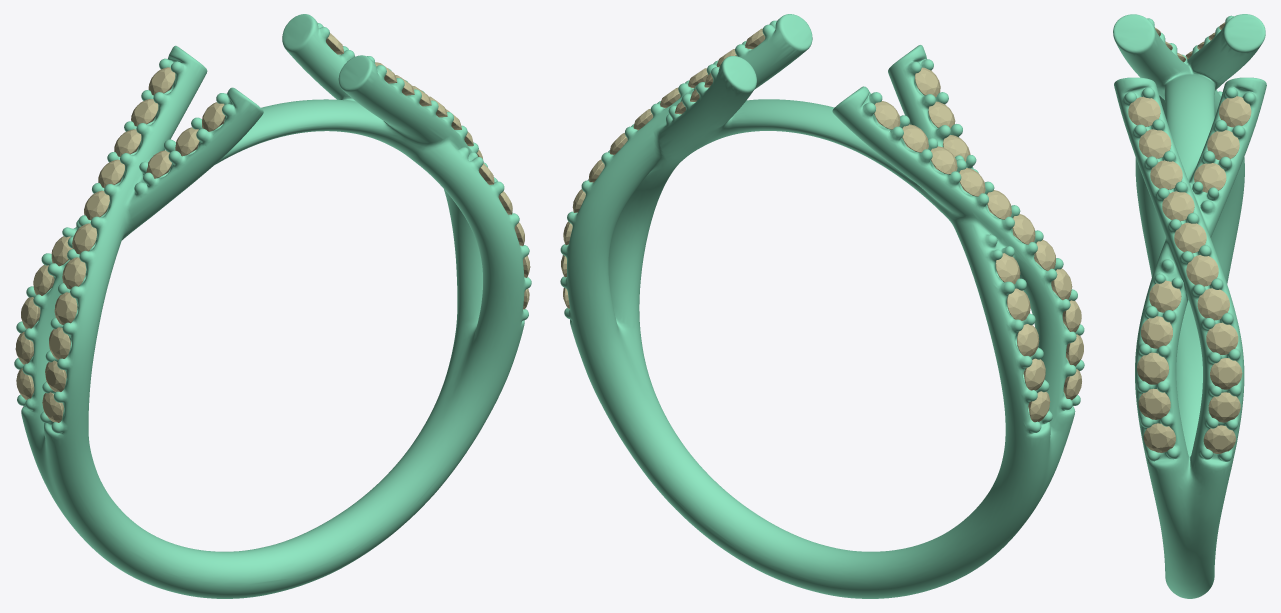
The picture shows the model from 3 angles, left to right: view 1: azimuth 30°, elevation 25°; view 2: azimuth 150°, elevation 25°; view 3: azimuth 270°, elevation 25°; orthographic projection.
Visible parts, largest first — view 1: Metal02; view 2: Metal02; view 3: Metal02, Diamond_Gem.007, Diamond_Gem.014, Diamond_Gem.009, Diamond_Gem.015, Diamond_Gem.011, Diamond_Gem.013, Diamond_Gem.008, Diamond_Gem.010, Diamond_Gem.001, Diamond_Gem.018, Diamond_Gem (+8 smaller).
Part boxes in pixels (left/top/right/bottom): Metal02: left=14, top=14, right=531, bottom=598; Metal02: left=560, top=14, right=1084, bottom=598; Metal02: left=1113, top=14, right=1266, bottom=598; Diamond_Gem.007: left=1137, top=352, right=1169, bottom=384; Diamond_Gem.014: left=1206, top=322, right=1238, bottom=354; Diamond_Gem.009: left=1141, top=316, right=1172, bottom=348; Diamond_Gem.015: left=1197, top=288, right=1229, bottom=320; Diamond_Gem.011: left=1186, top=255, right=1218, bottom=286; Diamond_Gem.013: left=1210, top=358, right=1242, bottom=389; Diamond_Gem.008: left=1138, top=388, right=1170, bottom=419; Diamond_Gem.010: left=1149, top=280, right=1181, bottom=312; Diamond_Gem.001: left=1174, top=222, right=1206, bottom=253; Diamond_Gem.018: left=1219, top=96, right=1251, bottom=127; Diamond_Gem: left=1208, top=392, right=1240, bottom=422.
Bounding box in the file's own units: 21.11 × 22.46 × 5.93.
